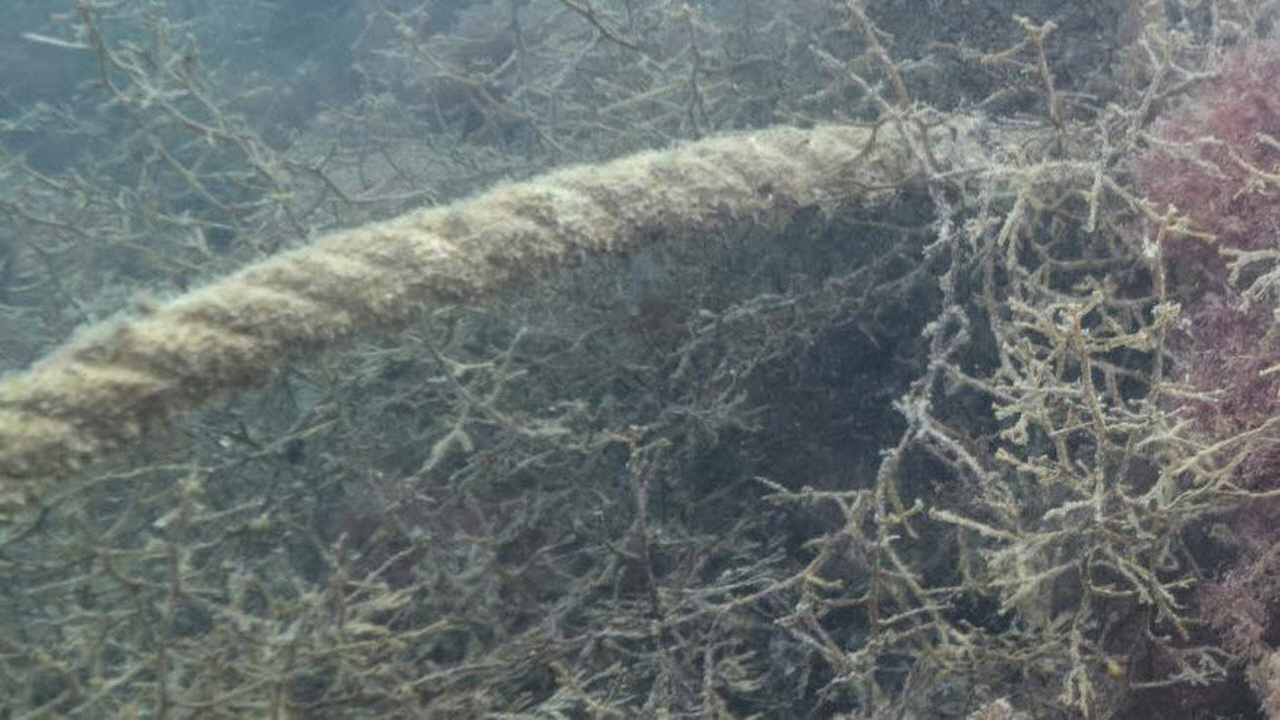rope: (0, 100, 910, 472)
